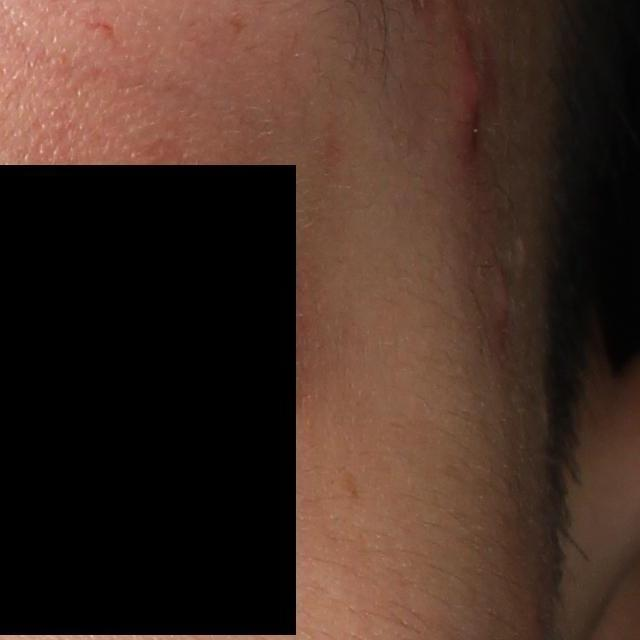papule: (456, 40, 486, 151)
